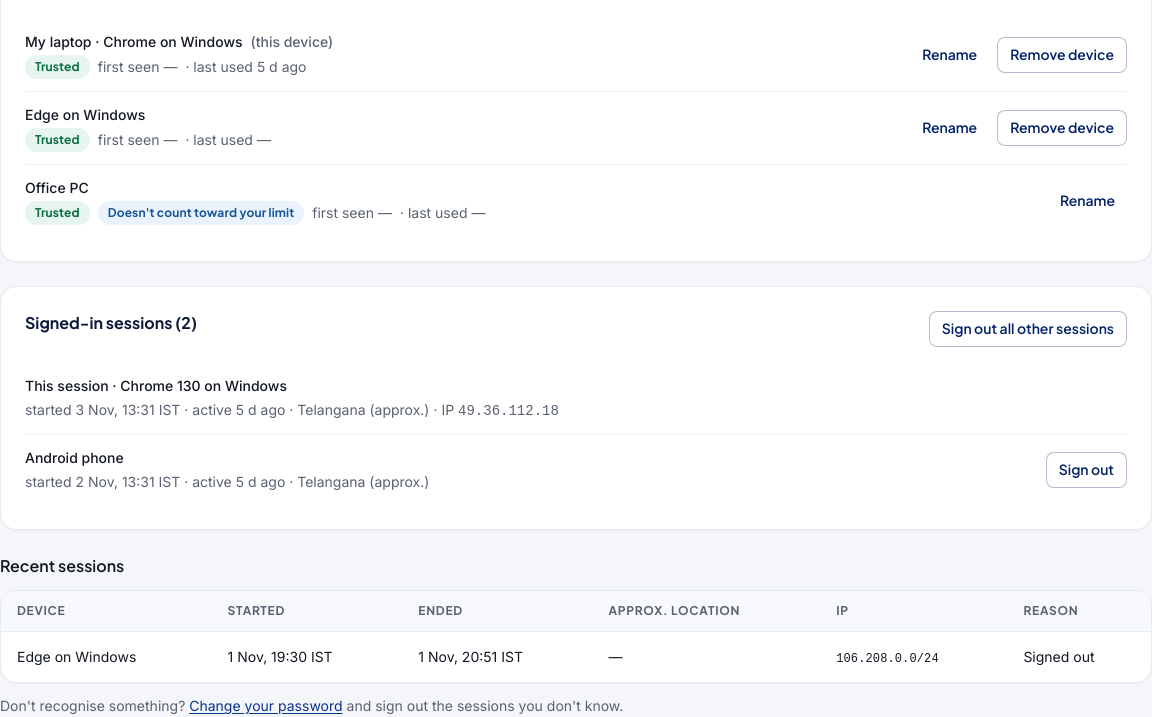
Test case: DevicesAndSessions (STU-022) › lists devices, active sessions and history, and signs out another session after confirming
The image size is (1152, 717).
(page scrolled)
Expected: the text "Doesn't count toward your limit" is shown, 98,201 -> 304,225
Expected: the text "This session · Chrome 130 on Windows" is shown, 25,377 -> 287,394
Click the button with aria-label "Sign out Android phone": (1086,470) 1046,452 -> 1127,488
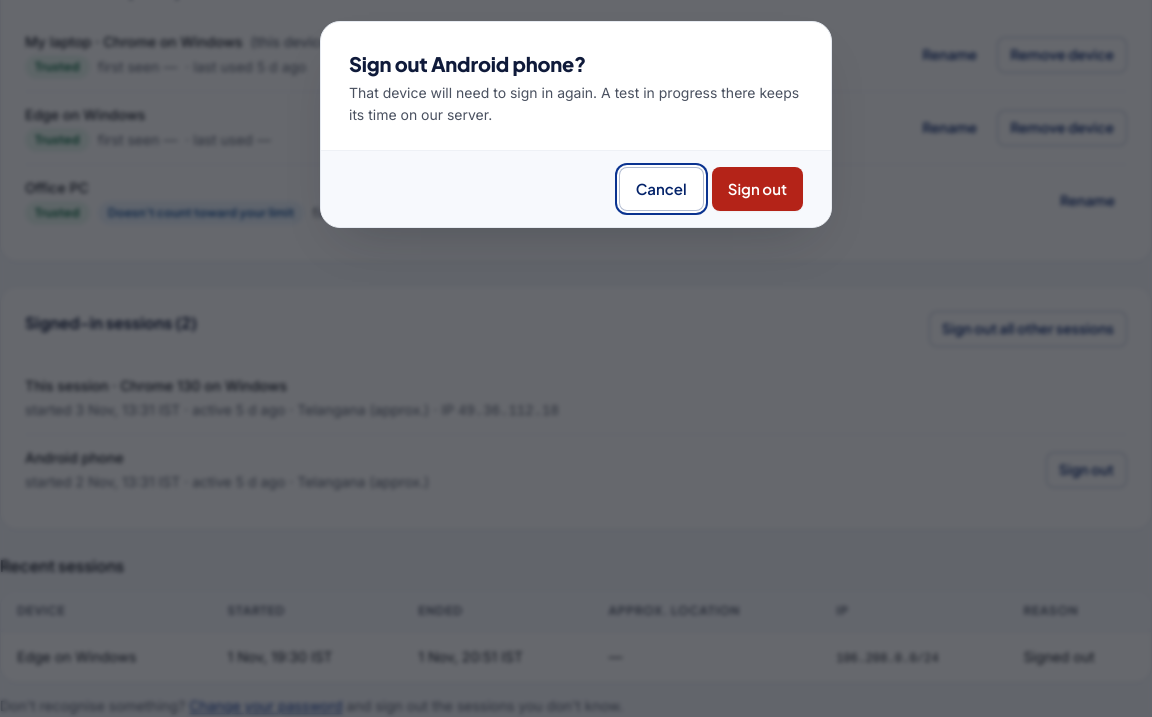
Result: the heading "Sign out Android phone?" is shown at 349,51 -> 586,76
Click the button "Sign out": (757,189) 712,167 -> 803,211
(page scrolled)
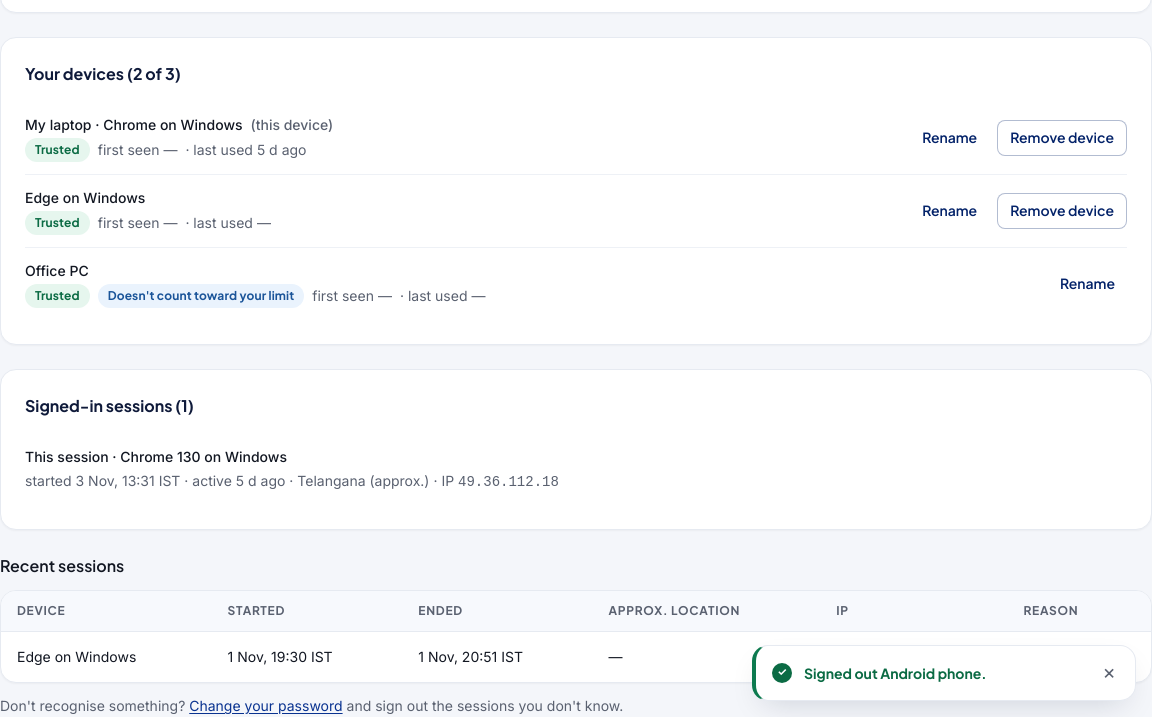
Result: the text "Signed out Android phone." is shown at 804,664 -> 987,682
